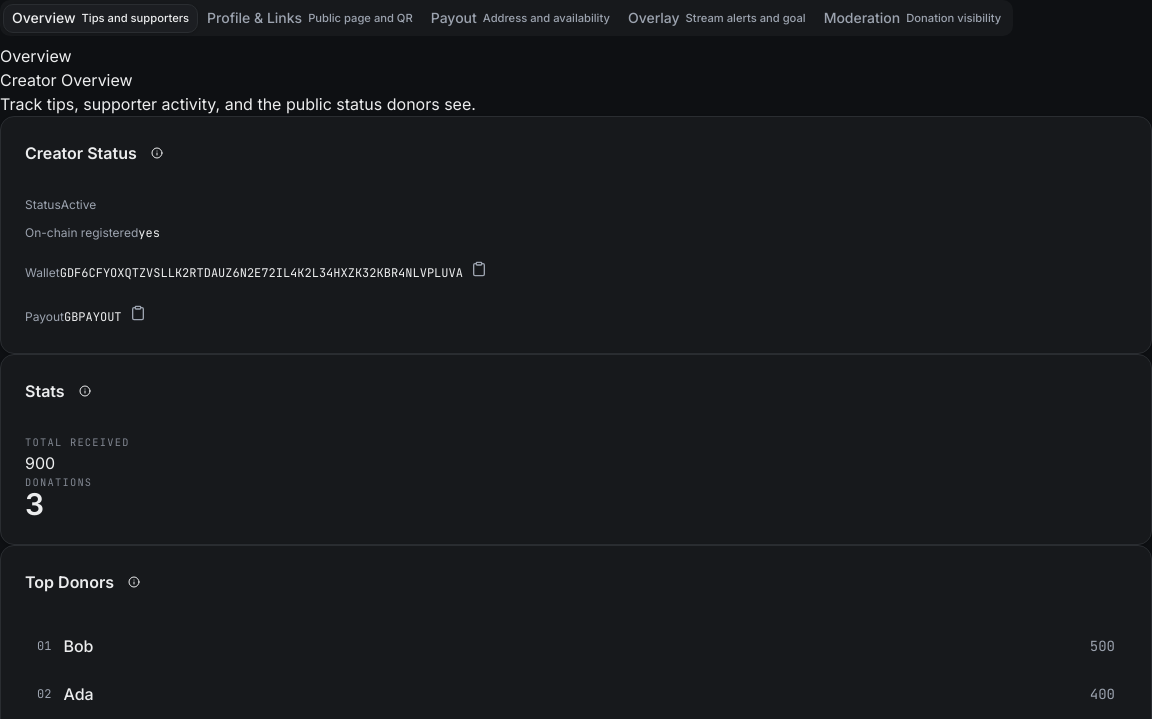
Scenario: ActiveGate - overlay settings › renders the Overlay Settings card with fields loaded from the API
This screenshot has width=1152, height=719.
Click the tab "Overlay Stream alerts and goal": (717, 18) [619, 4, 815, 32]
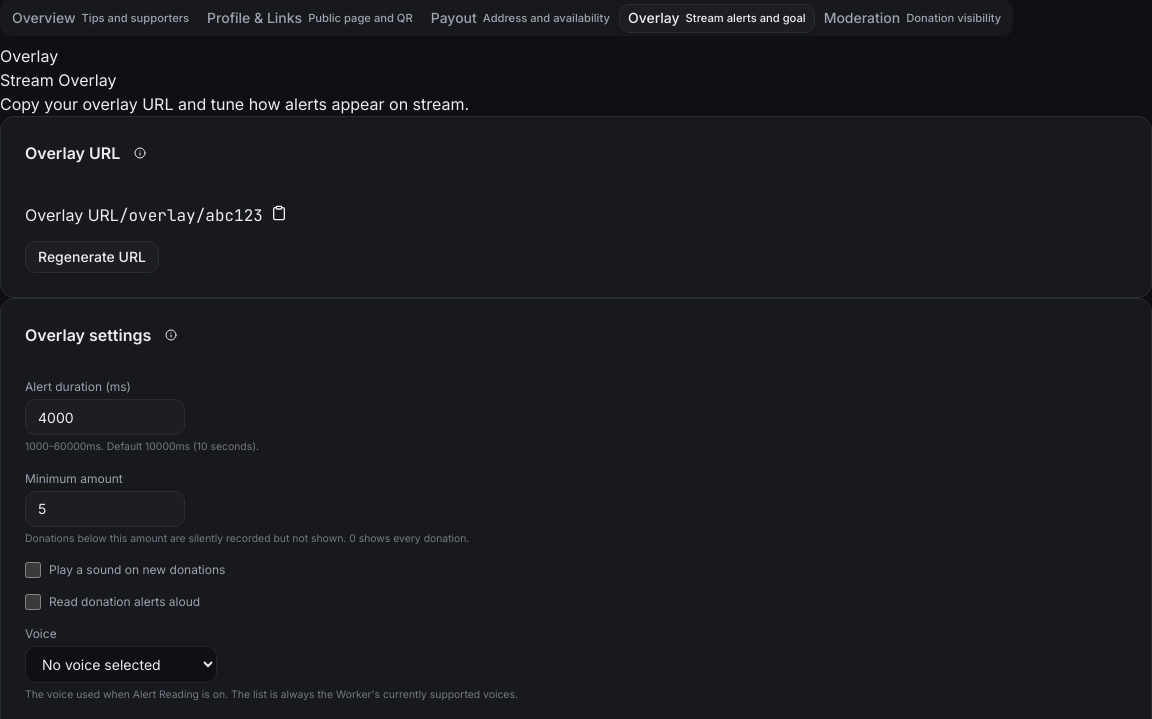
Expected: the number field with test id "overlay-duration-input" holds "4000", [25, 399, 185, 435]
Expected: the number field with test id "overlay-min-amount-input" holds "5", [25, 491, 185, 527]
Expected: the checkbox with test id "overlay-sound-toggle" is not checked, [25, 562, 41, 578]
